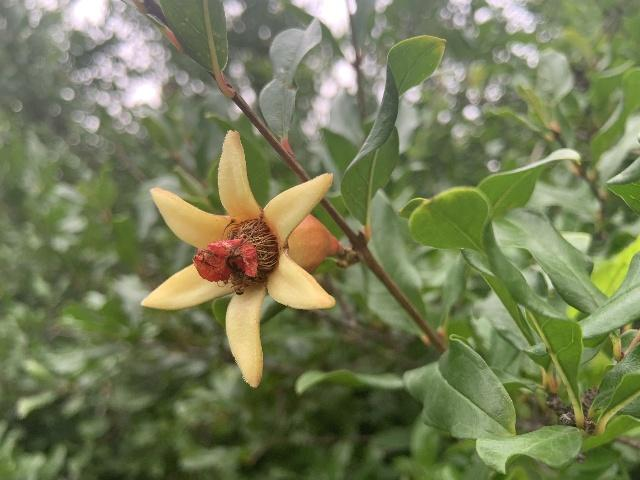early-fruit: (140, 126, 341, 391)
